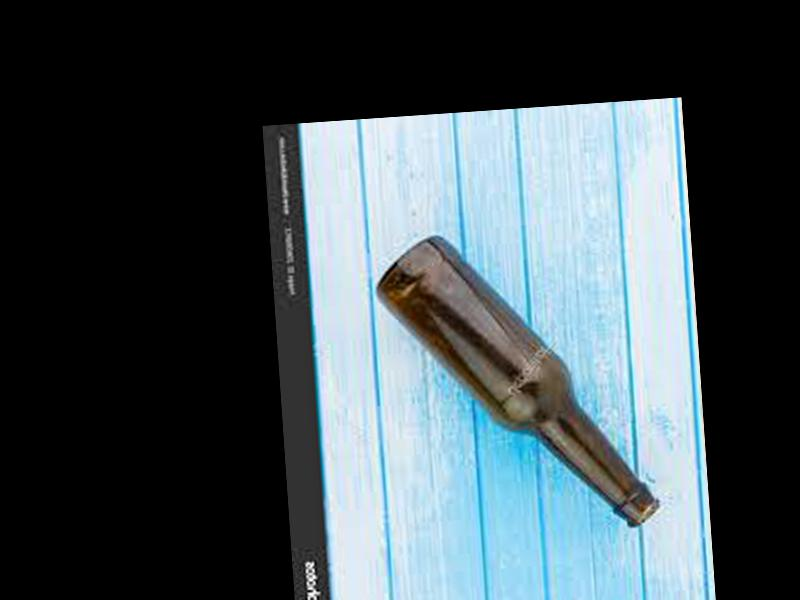Beer: (368, 221, 661, 541)
